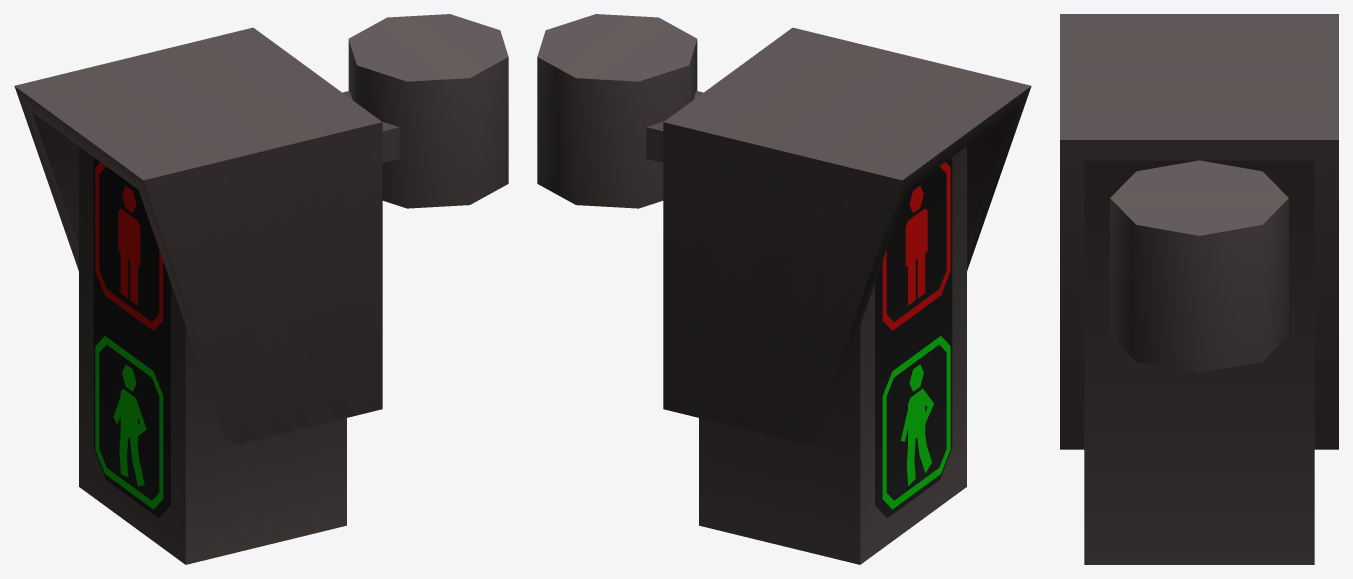
The model's file is Stoplight_5B.fbx.
3 views of the same model, side by side, from view 1: azimuth 30°, elevation 25°; view 2: azimuth 150°, elevation 25°; view 3: azimuth 270°, elevation 25° (orthographic). The views are drawn at different scales.
Parts seen in each view (by area): view 1: Stoplight_5B, Stoplight_5B_Light_Green, Stoplight_5B_Light_Red; view 2: Stoplight_5B, Stoplight_5B_Light_Green, Stoplight_5B_Light_Red; view 3: Stoplight_5B.
Boxes of the visible parts, left/top/right/bottom form: Stoplight_5B: left=14, top=14, right=508, bottom=564; Stoplight_5B_Light_Green: left=95, top=336, right=163, bottom=509; Stoplight_5B_Light_Red: left=95, top=162, right=163, bottom=330; Stoplight_5B: left=537, top=14, right=1031, bottom=564; Stoplight_5B_Light_Green: left=882, top=336, right=950, bottom=509; Stoplight_5B_Light_Red: left=882, top=162, right=950, bottom=330; Stoplight_5B: left=1060, top=14, right=1338, bottom=564.
Size of the model in its own units: 98.76 by 90.89 by 52.46.
